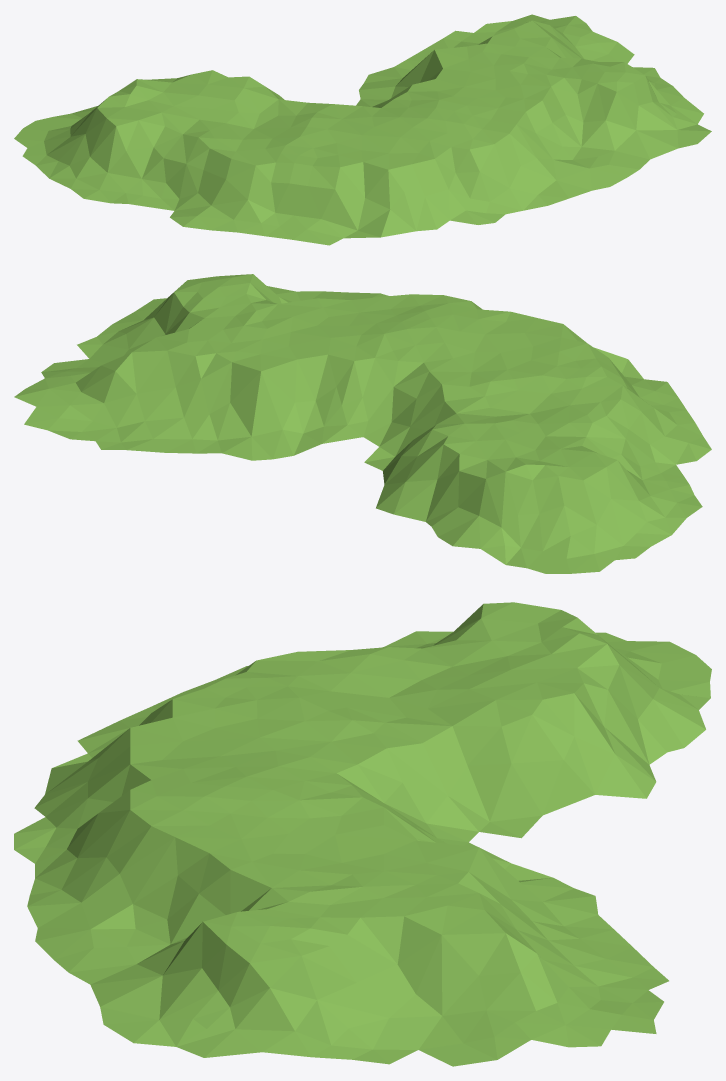
Rendered from MT_Mountain_L_b_05.fbx.
The picture shows the model from 3 angles, top to bottom: view 1: azimuth 30°, elevation 25°; view 2: azimuth 150°, elevation 25°; view 3: azimuth 270°, elevation 25°; orthographic projection. The views are drawn at different scales.
Visible parts, largest first — view 1: MT_Mountain_L_b_05; view 2: MT_Mountain_L_b_05; view 3: MT_Mountain_L_b_05.
Boxes of the visible parts, x1,y1,x2,y2 form: MT_Mountain_L_b_05: [14, 14, 711, 245]; MT_Mountain_L_b_05: [14, 274, 711, 573]; MT_Mountain_L_b_05: [14, 602, 711, 1066].
Size of the model in its own units: 7616 by 678 by 5156.
